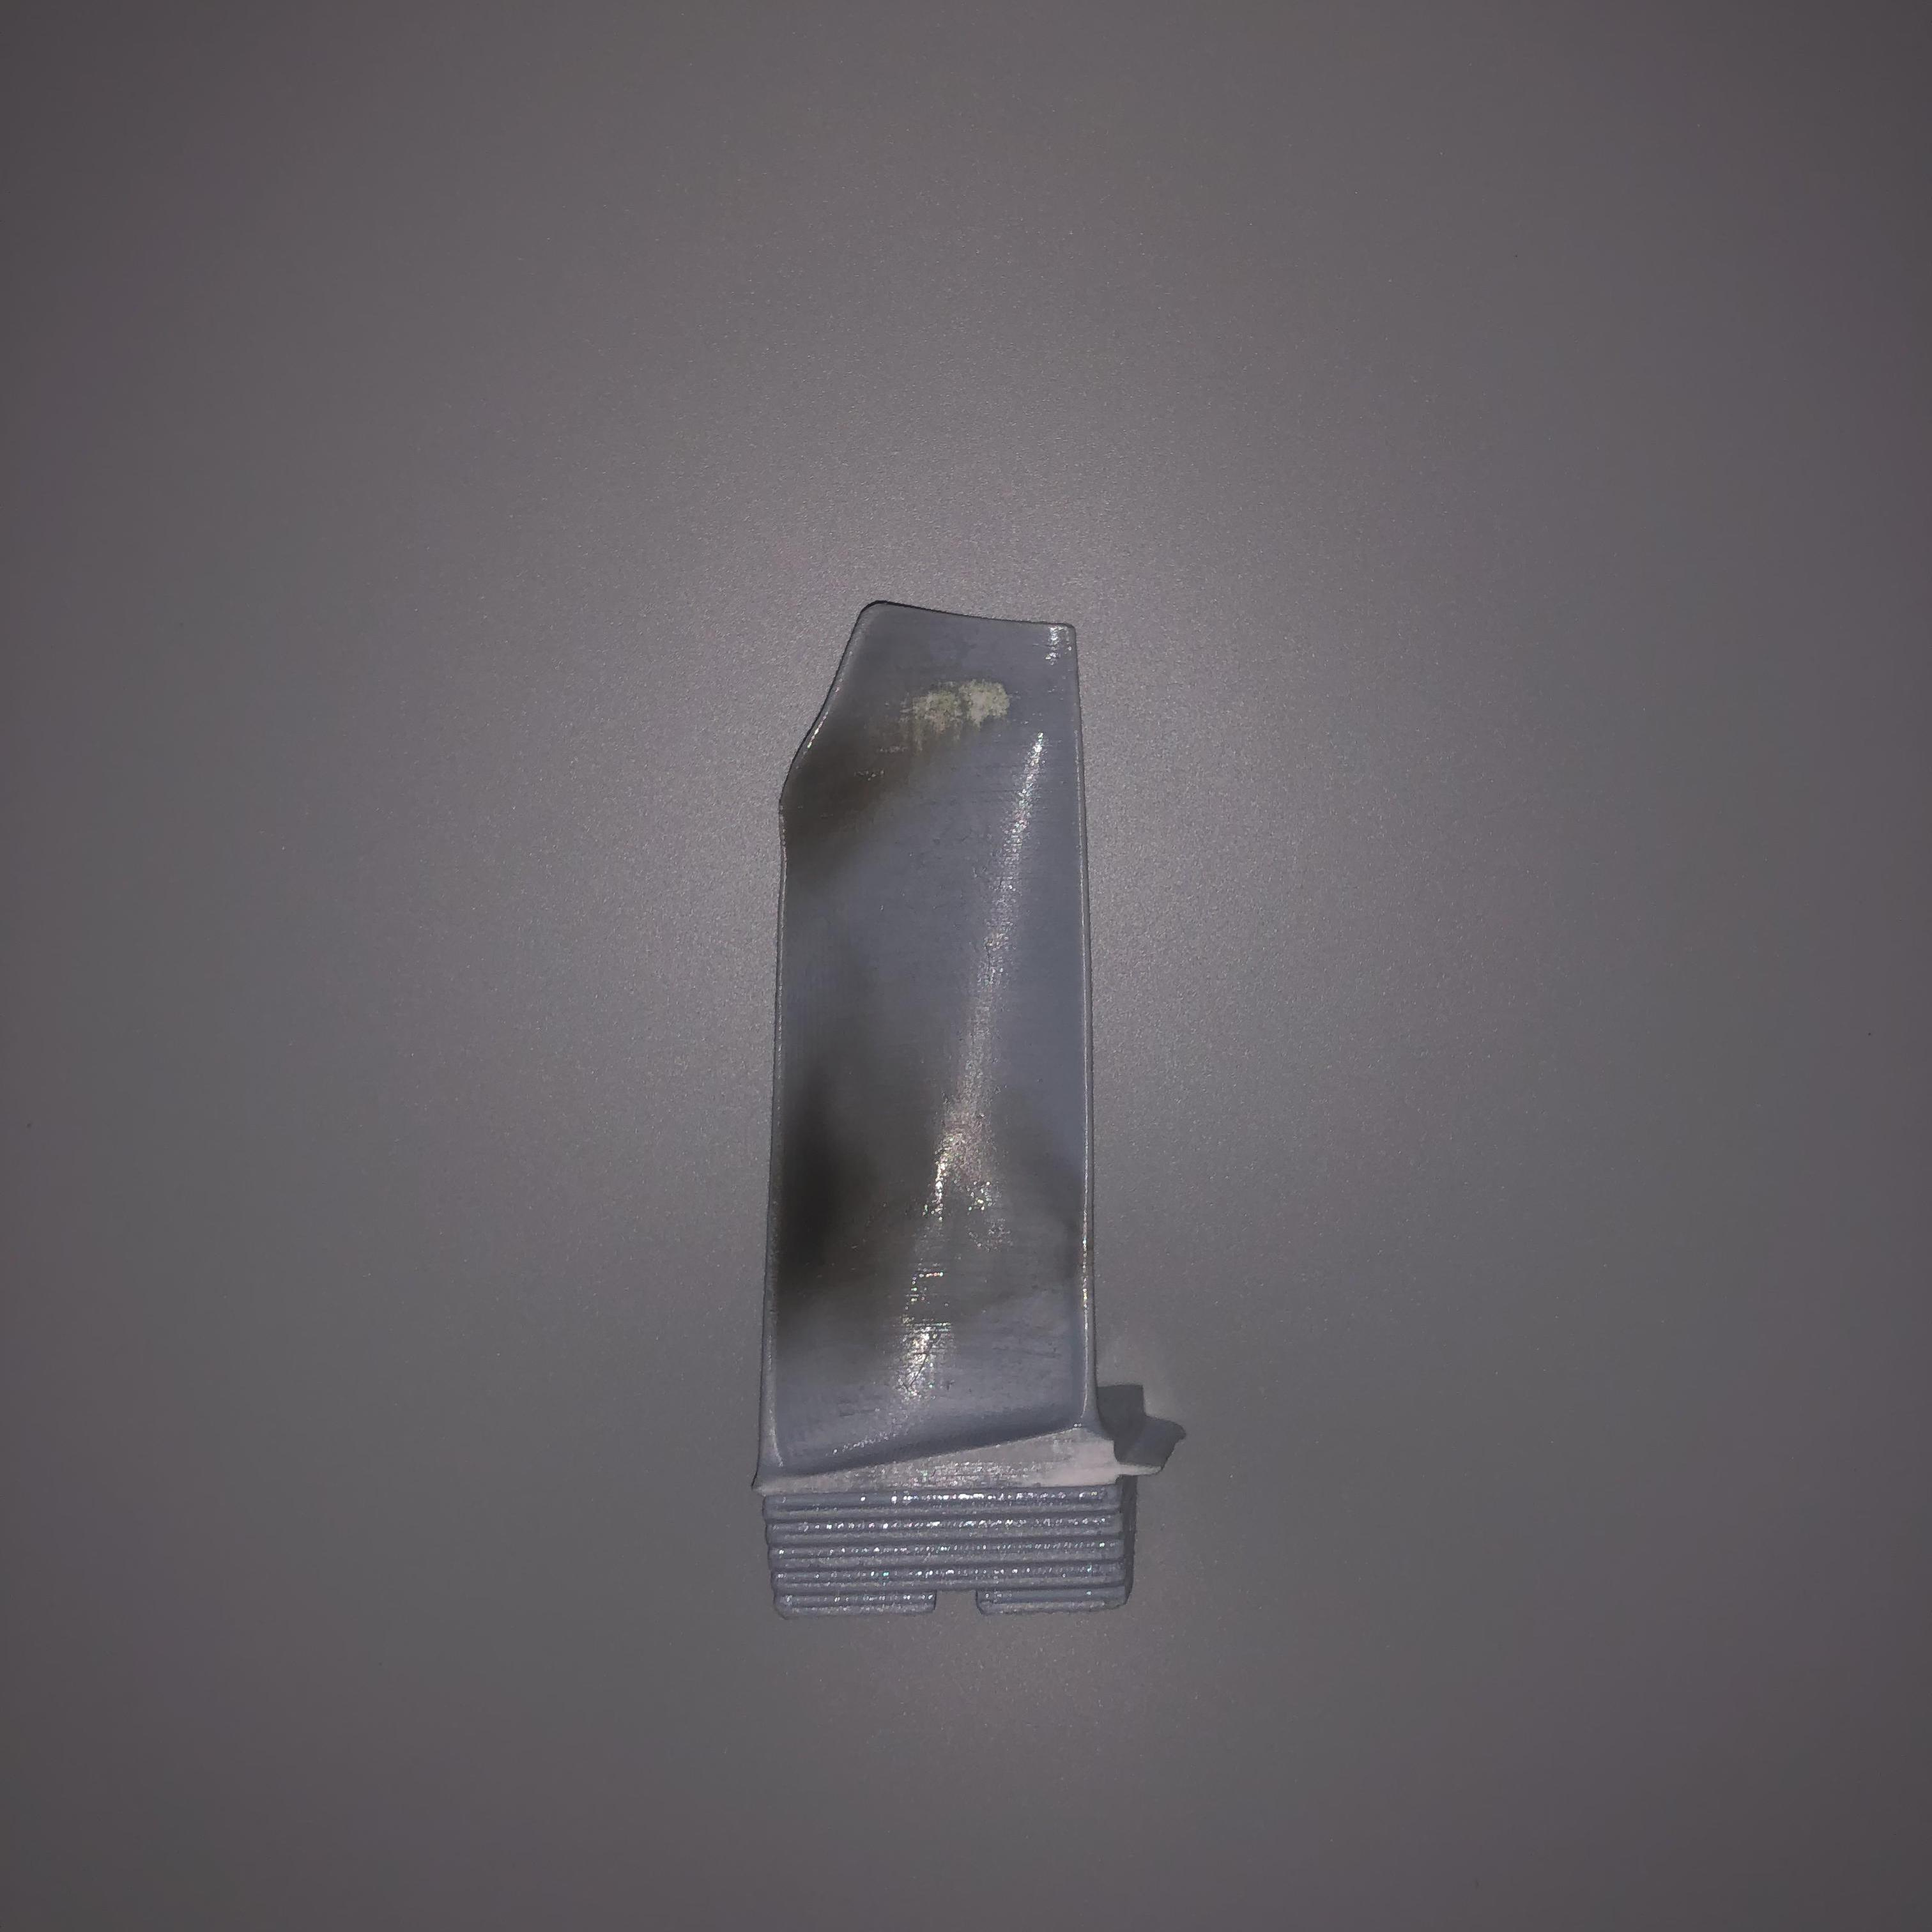ablation: (773, 1083, 1074, 1325), (784, 690, 1033, 853)
